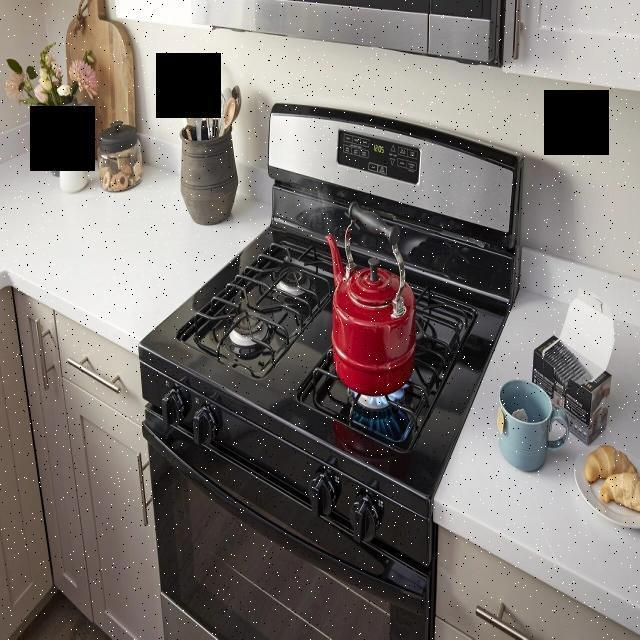Flame: (348, 390, 410, 413)
Pan: (323, 198, 430, 390)
